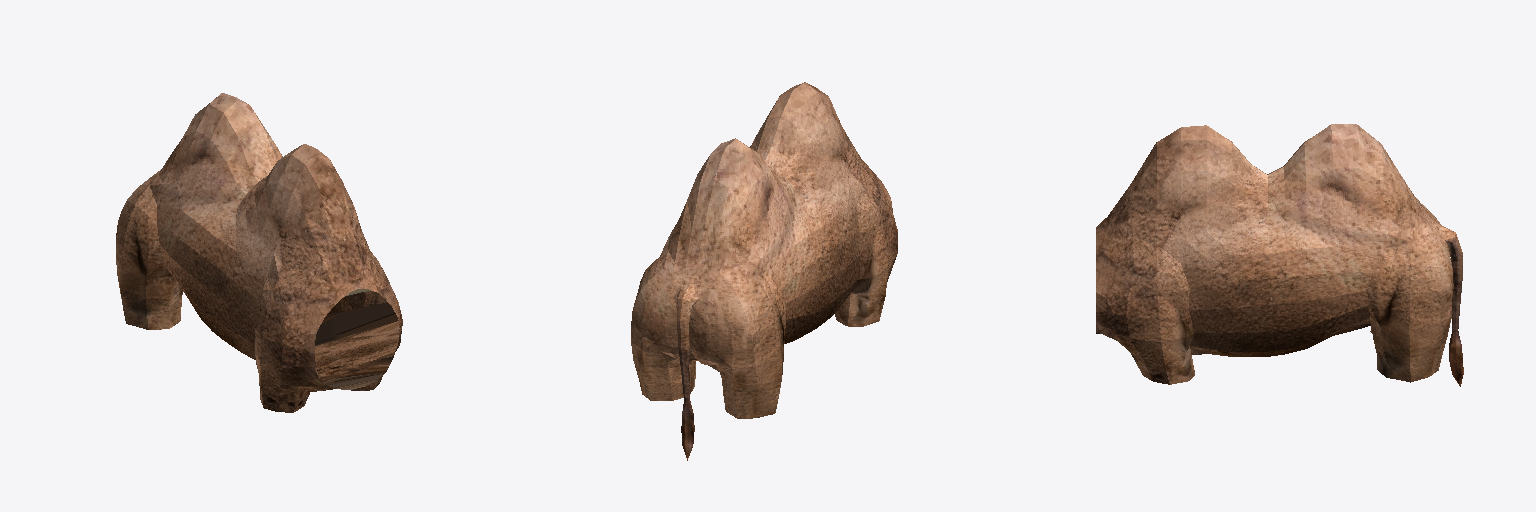
3 views of the same model, side by side, from view 1: azimuth 30°, elevation 25°; view 2: azimuth 150°, elevation 25°; view 3: azimuth 270°, elevation 25° (orthographic).
Parts seen in each view (by area): view 1: Cuerpo; view 2: Cuerpo; view 3: Cuerpo.
Part boxes in pixels (x1,y1,x2,y2): Cuerpo: (116,93,402,412); Cuerpo: (631,82,897,460); Cuerpo: (1096,124,1463,386).
Bounding box in the file's own units: 0.7592 × 1.32 × 1.61.
1 materials, 1 textured.